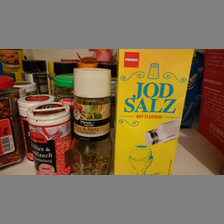spices: (113, 49, 193, 175), (71, 66, 112, 175), (27, 102, 70, 174)
